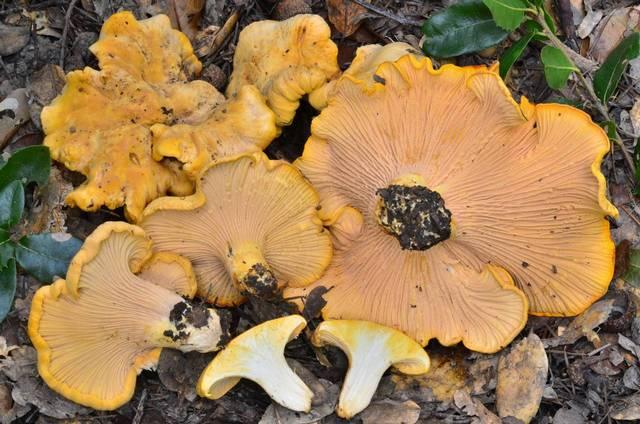edible_mushroom: (27, 8, 619, 417), (287, 46, 619, 353), (26, 219, 228, 411), (138, 150, 333, 307)
